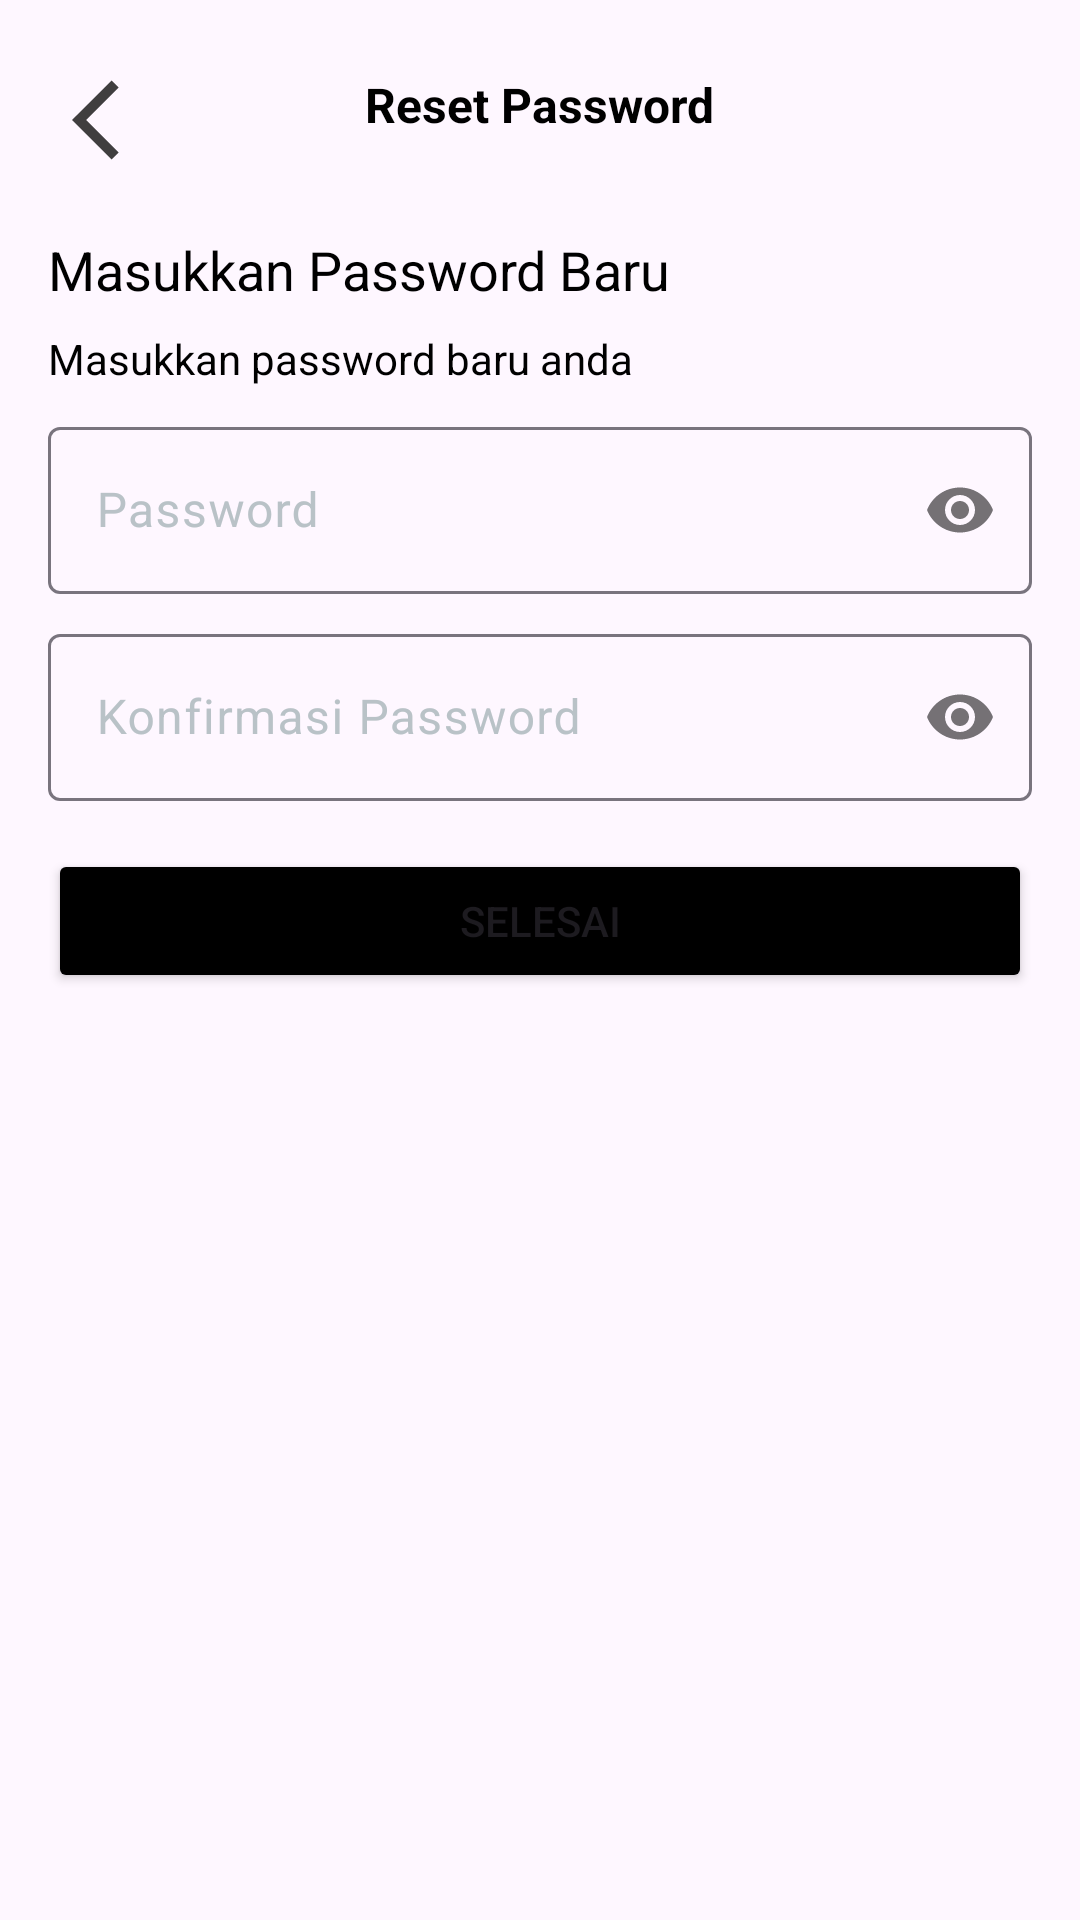

Icon bounding boxes for this 1080×1920 phone screenshot, format (x1, y1, x2, y2):
Back: (72, 80, 119, 160)
